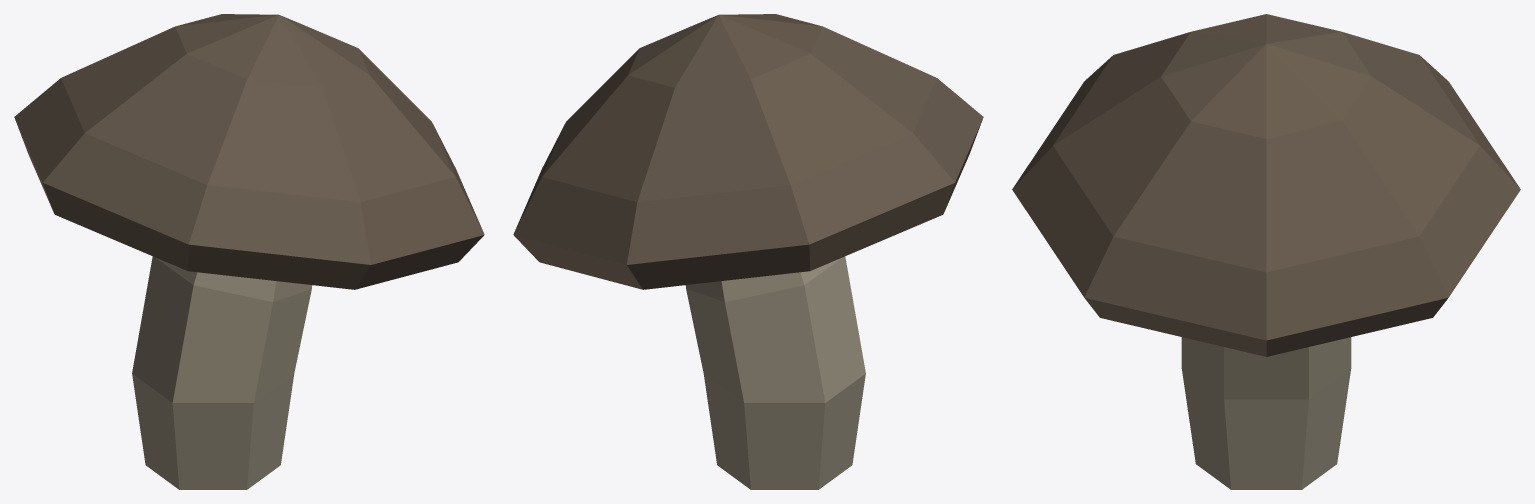
The model's file is mushroom1.fbx.
3 views of the same model, side by side, from view 1: azimuth 30°, elevation 25°; view 2: azimuth 150°, elevation 25°; view 3: azimuth 270°, elevation 25° (orthographic). The views are drawn at different scales.
Parts seen in each view (by area): view 1: head1, body1; view 2: head1, body1; view 3: head1, body1.
Part boxes in pixels (<box>): head1: <box>14,14,484,289</box>; body1: <box>132,256,312,489</box>; head1: <box>513,14,983,289</box>; body1: <box>685,256,865,489</box>; head1: <box>1012,14,1520,356</box>; body1: <box>1181,337,1351,489</box>.
Bounding box in the file's own units: 1.59 × 1.6 × 1.63.
